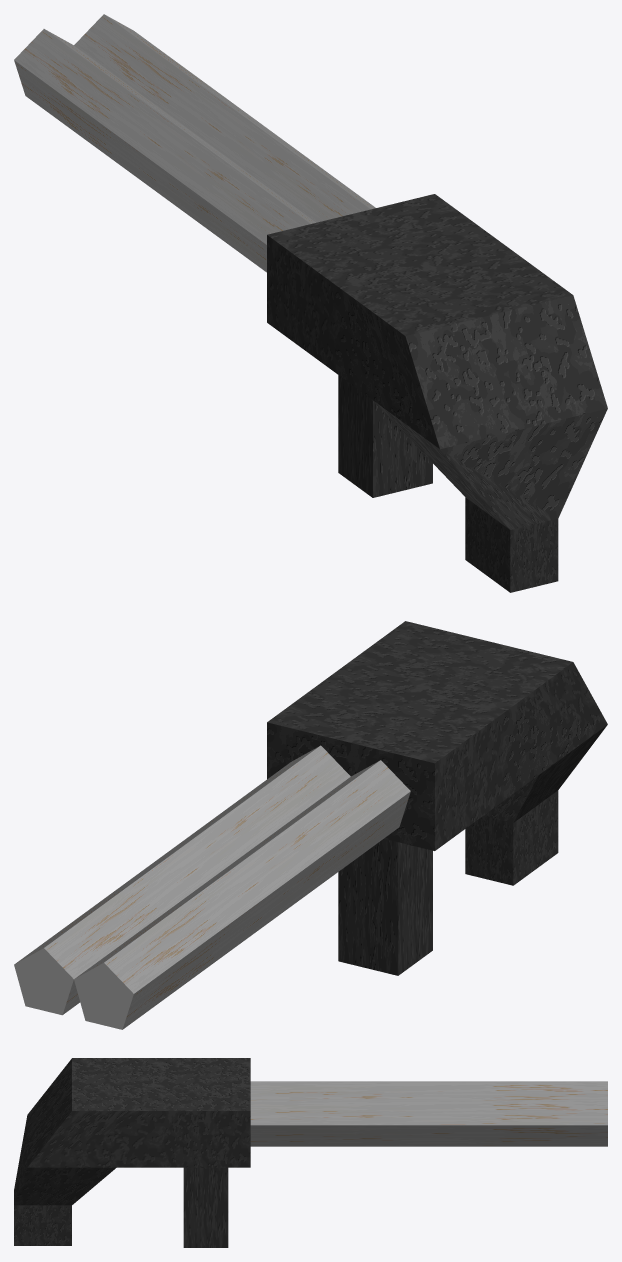
File: shotgun.obj
3 views of the same model, one above another, from view 1: azimuth 30°, elevation 25°; view 2: azimuth 150°, elevation 25°; view 3: azimuth 270°, elevation 25° (orthographic). The views are drawn at different scales.
Visible parts, largest first — view 1: cuboid, cylinder; view 2: cuboid, cylinder; view 3: cuboid, cylinder.
Boxes of the visible parts, <box> form: cuboid: <box>267,194,607,592</box>; cylinder: <box>14,14,375,272</box>; cuboid: <box>267,621,607,975</box>; cylinder: <box>14,745,410,1029</box>; cuboid: <box>14,1058,250,1247</box>; cylinder: <box>250,1081,607,1146</box>.
Size of the model in its own units: 0.175 by 0.2375 by 0.8313.
Materials: 3 (2 with a texture image).
